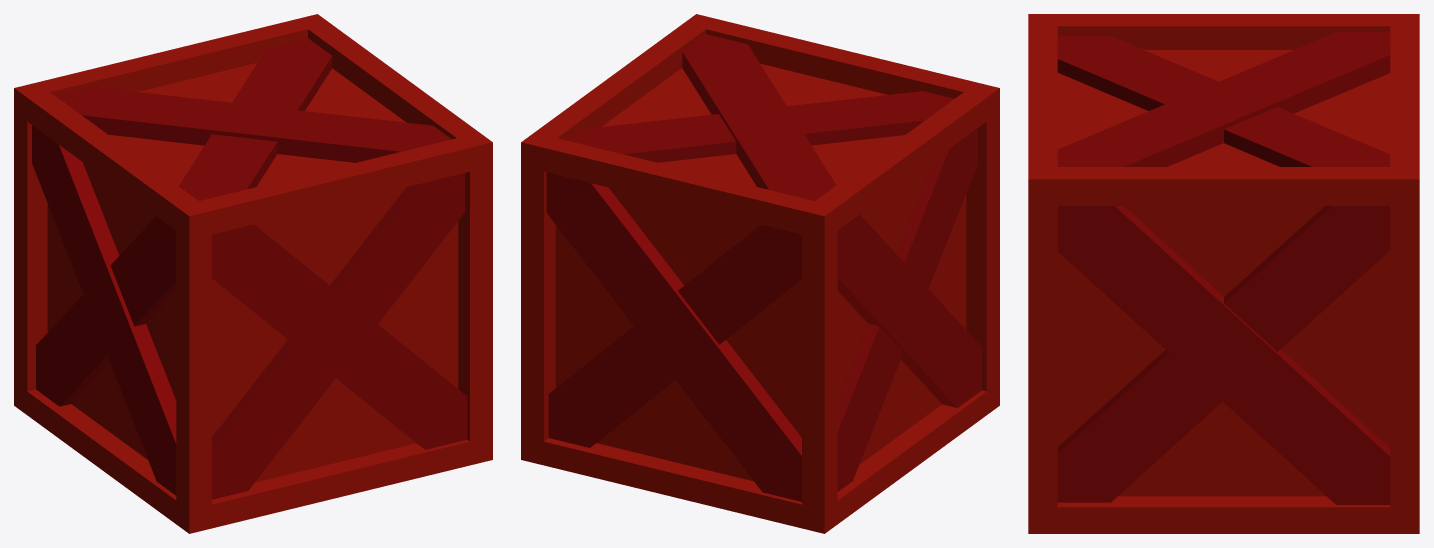
The model's file is Crate2.fbx.
3 views of the same model, side by side, from view 1: azimuth 30°, elevation 25°; view 2: azimuth 150°, elevation 25°; view 3: azimuth 270°, elevation 25° (orthographic). The views are drawn at different scales.
Parts seen in each view (by area): view 1: Cube; view 2: Cube; view 3: Cube.
Boxes of the visible parts, bbox=[...] form: Cube: bbox=[14, 14, 492, 533]; Cube: bbox=[521, 14, 999, 533]; Cube: bbox=[1028, 14, 1419, 533].
Size of the model in its own units: 200 by 200 by 200.
